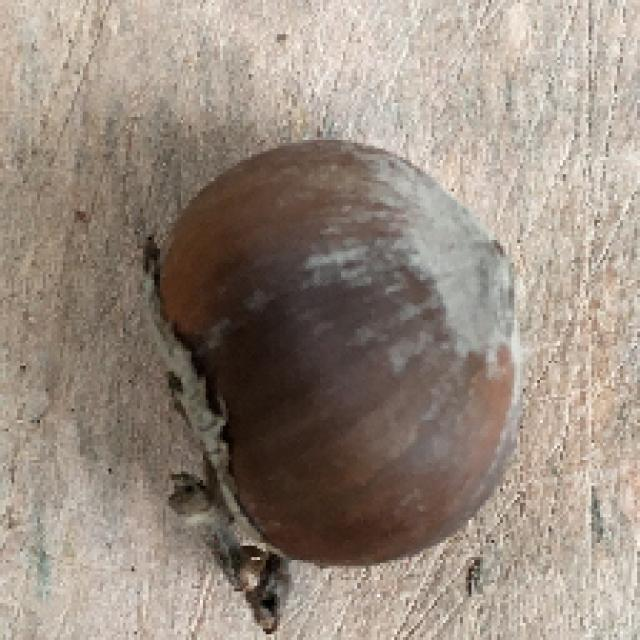damagedHazelnut: (121, 139, 526, 633)
